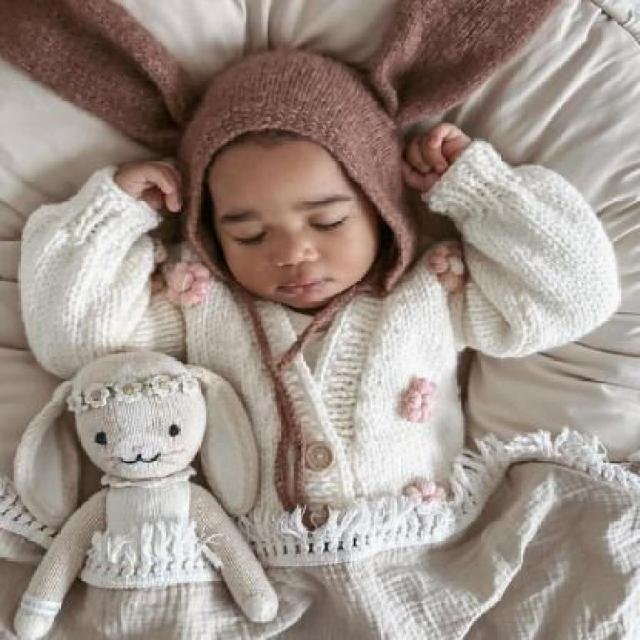baby: (16, 44, 622, 542)
